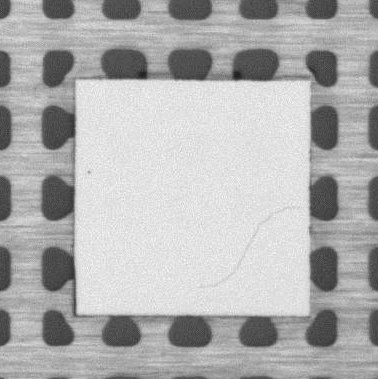DIE_CRACK: (199, 206, 310, 288)
